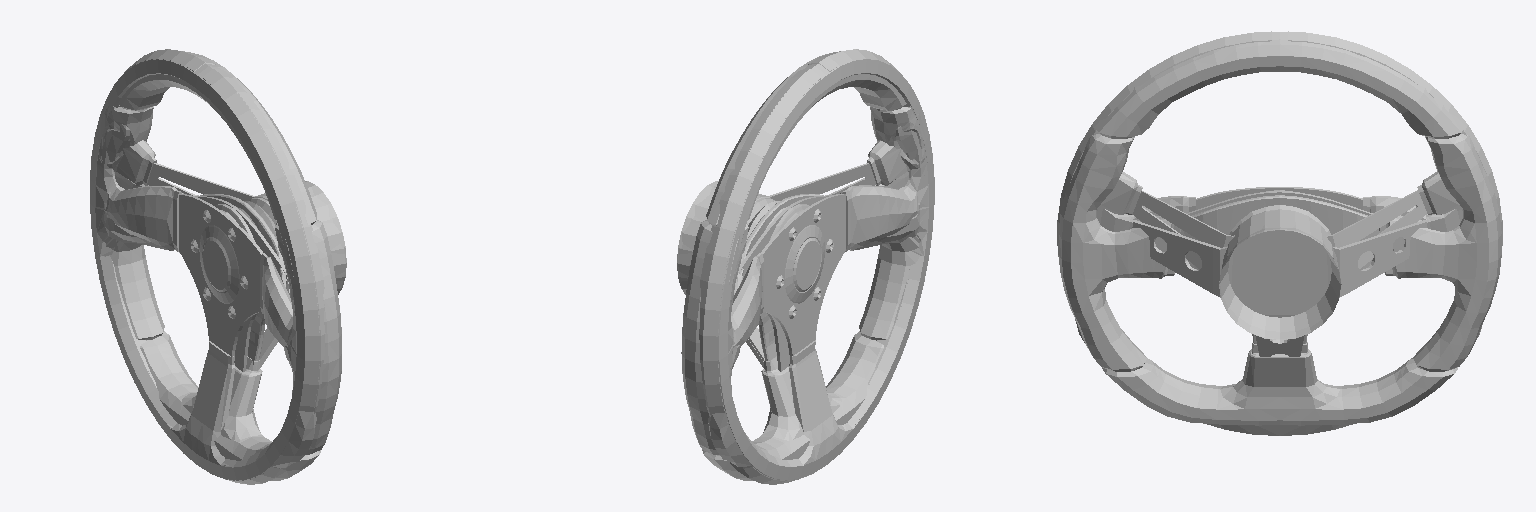
File: STEERING_WHEELS.obj
The picture shows the model from 3 angles: view 1: azimuth 30°, elevation 25°; view 2: azimuth 150°, elevation 25°; view 3: azimuth 270°, elevation 25°; orthographic projection.
Visible parts, largest first — view 1: STEERINGWHEEL_KIT03_A, STEERINGWHEEL_KIT05_A, STEERINGWHEEL_KIT04_A, STEERINGWHEEL_KIT02_A, STEERINGWHEEL_KIT01_A; view 2: STEERINGWHEEL_KIT03_A, STEERINGWHEEL_KIT05_A, STEERINGWHEEL_KIT01_A, STEERINGWHEEL_KIT02_A, STEERINGWHEEL_KIT04_A; view 3: STEERINGWHEEL_KIT05_A, STEERINGWHEEL_KIT01_A, STEERINGWHEEL_KIT02_A, STEERINGWHEEL_KIT03_A, STEERINGWHEEL_KIT04_A.
Boxes of the visible parts, <box> form: STEERINGWHEEL_KIT03_A: <box>90,59,345,480</box>; STEERINGWHEEL_KIT05_A: <box>98,53,346,480</box>; STEERINGWHEEL_KIT04_A: <box>96,93,344,468</box>; STEERINGWHEEL_KIT02_A: <box>114,49,345,465</box>; STEERINGWHEEL_KIT01_A: <box>115,49,346,484</box>; STEERINGWHEEL_KIT03_A: <box>678,50,934,480</box>; STEERINGWHEEL_KIT05_A: <box>677,53,925,480</box>; STEERINGWHEEL_KIT01_A: <box>699,49,908,484</box>; STEERINGWHEEL_KIT02_A: <box>678,49,910,464</box>; STEERINGWHEEL_KIT04_A: <box>678,50,927,466</box>; STEERINGWHEEL_KIT05_A: <box>1058,39,1501,425</box>; STEERINGWHEEL_KIT01_A: <box>1057,31,1502,435</box>; STEERINGWHEEL_KIT02_A: <box>1097,32,1462,358</box>; STEERINGWHEEL_KIT03_A: <box>1081,37,1427,358</box>; STEERINGWHEEL_KIT04_A: <box>1075,46,1482,342</box>.
Size of the model in its own units: 0.1131 by 0.3607 by 0.3604.